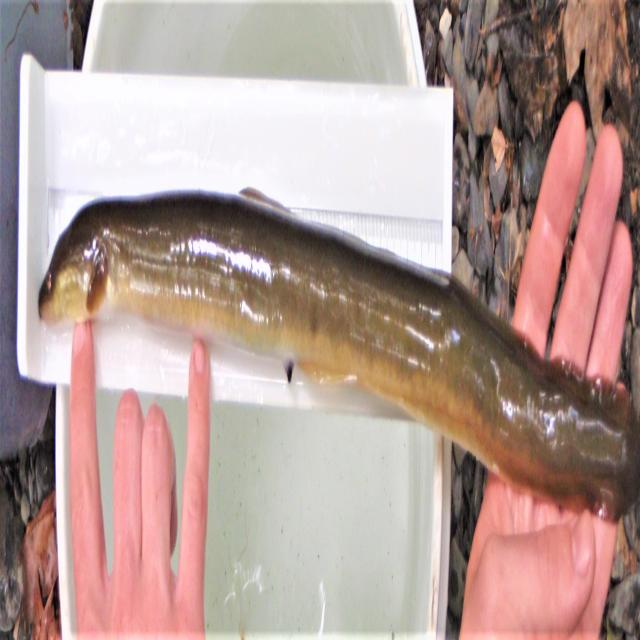Freshwater-Eel: (35, 150, 640, 570)
